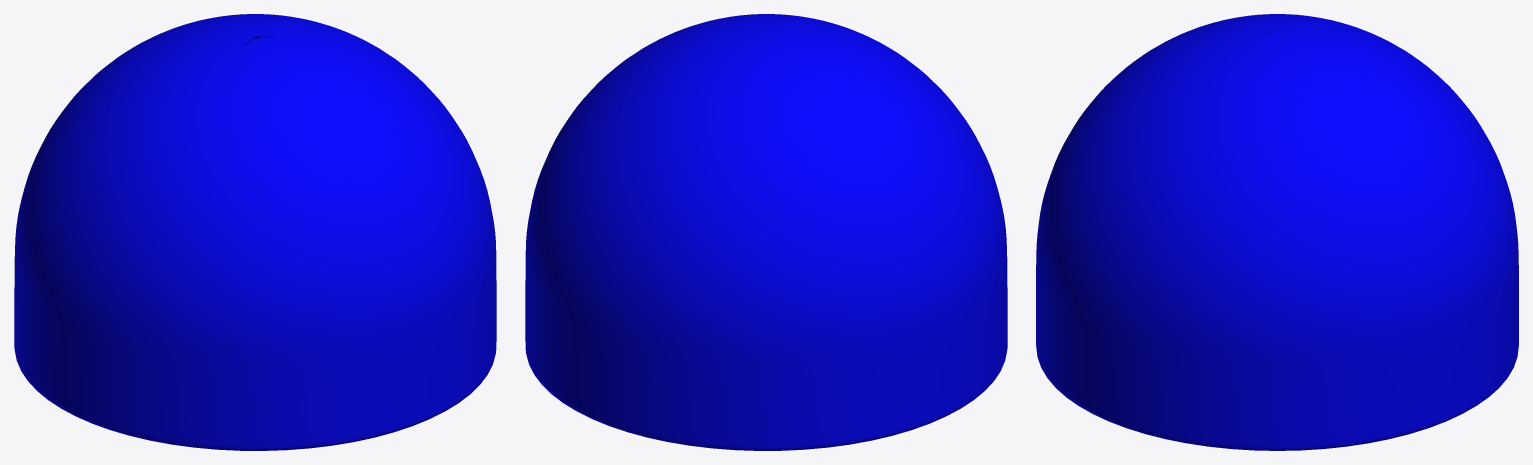
3 views of the same model, side by side, from view 1: azimuth 30°, elevation 25°; view 2: azimuth 150°, elevation 25°; view 3: azimuth 270°, elevation 25° (orthographic).
Parts seen in each view (by area): view 1: test22; view 2: test22; view 3: test22.
Part boxes in pixels (x1=…): test22: x1=14, y1=14, x2=496, y2=450; test22: x1=525, y1=14, x2=1007, y2=450; test22: x1=1036, y1=14, x2=1518, y2=450.
Bounding box in the file's own units: 0.6832 × 0.4921 × 0.684.
Materials: 1 (1 with a texture image).
